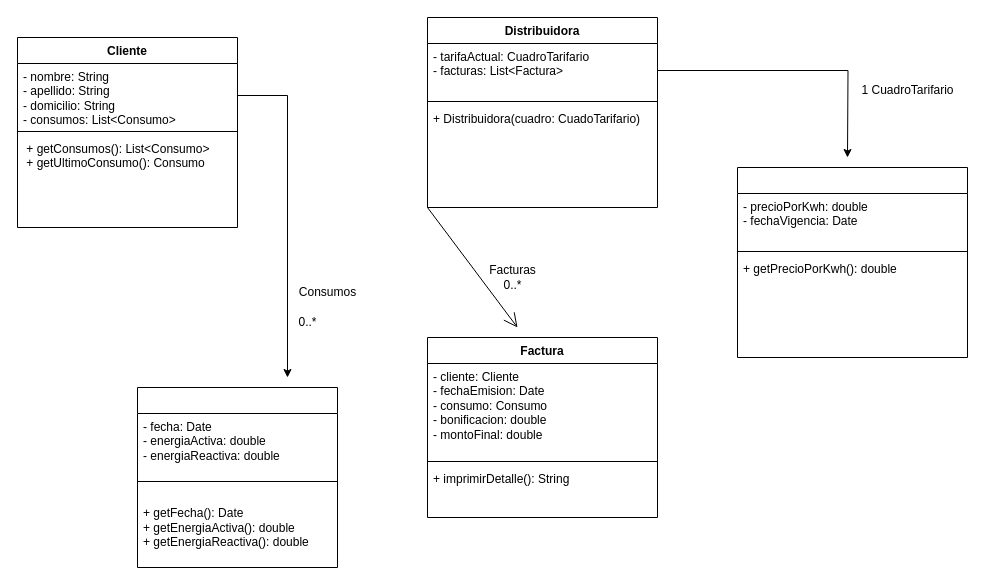
The diagram is 985 pixels wide and 588 high, and some of its shapes have lost their labels. Each missing label, with the box of its shape:
Consumo: (136, 386, 338, 568)
CuadroTarifario: (736, 166, 968, 358)
